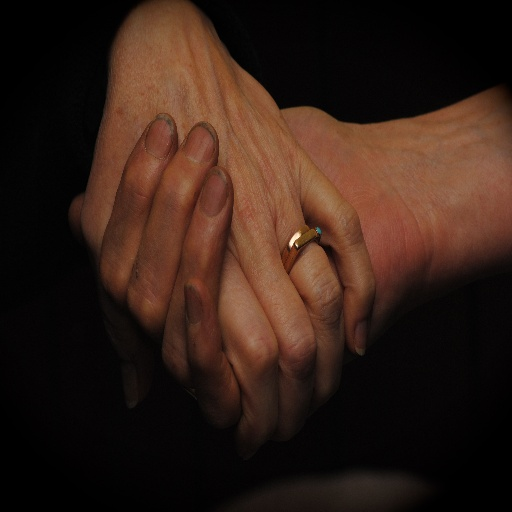hand: (67, 103, 428, 427)
